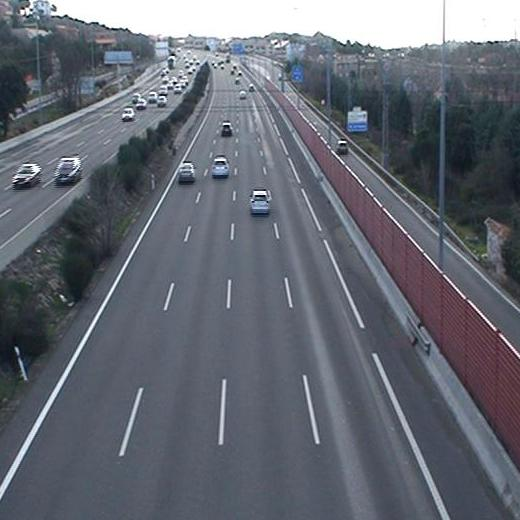car: (246, 185, 274, 218), (173, 158, 199, 185), (208, 153, 231, 181), (218, 121, 236, 139)
